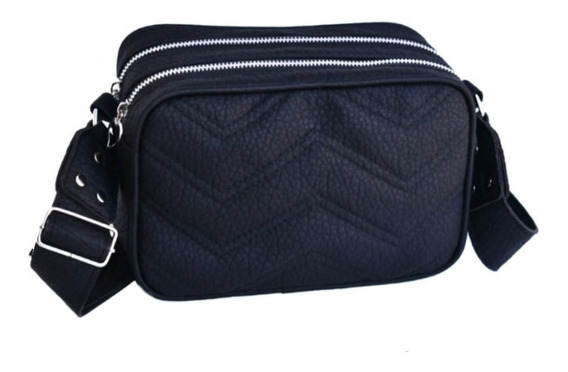cartera: (27, 19, 540, 319)
